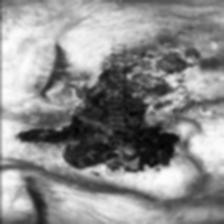Potentially Malignant Skin Tumors: (138, 125, 168, 167), (17, 123, 57, 146)
